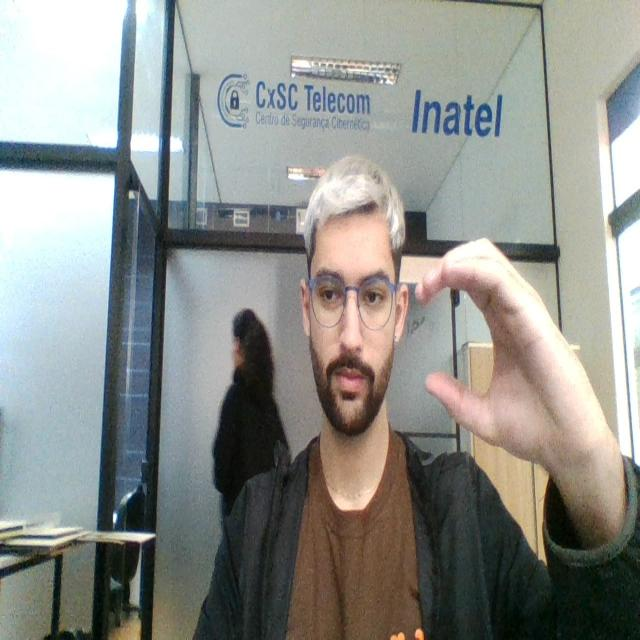C: (415, 226, 579, 458)
